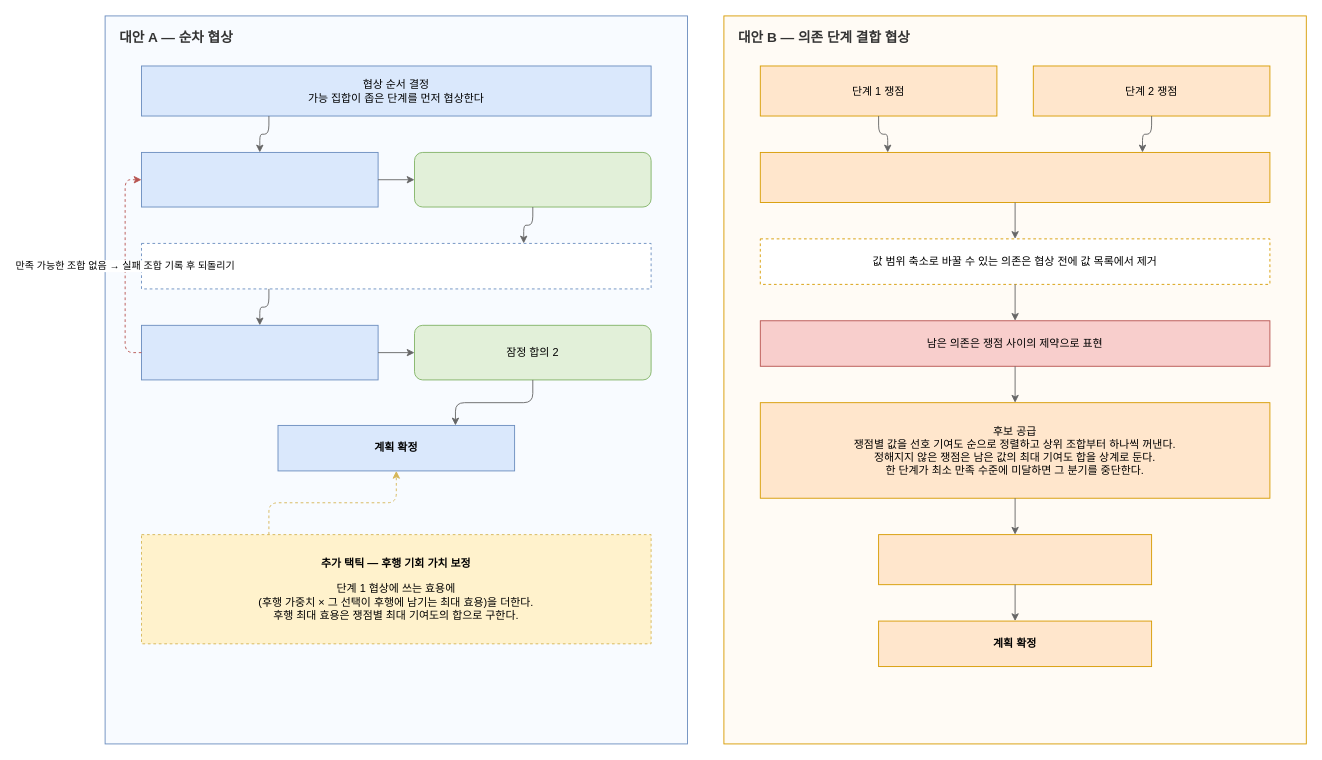
This 1322x760 diagram has some shape labels left out. Each missing label, with the centre of its shape:
"결합 의제 — 두 단계의 쟁점 전부" belongs at (1014,177).
"단계 1 협상 (그 단계의 쟁점만)" belongs at (259,179).
"단계 2 협상 (그 단계의 쟁점만)" belongs at (259,352).
"단일 협상" belongs at (1015,559).
"의존 반영 — 후행 단계의 값 목록 축소" belongs at (396,266).
"잠정 합의 1" belongs at (532,179).
